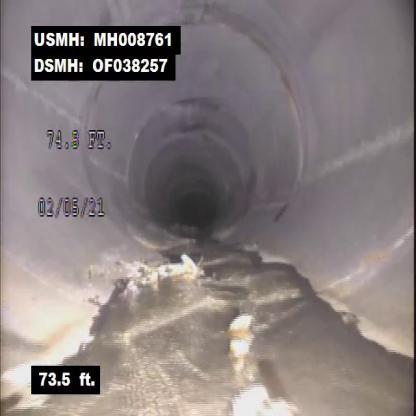obsc: (100, 240, 210, 297), (215, 303, 265, 378)
